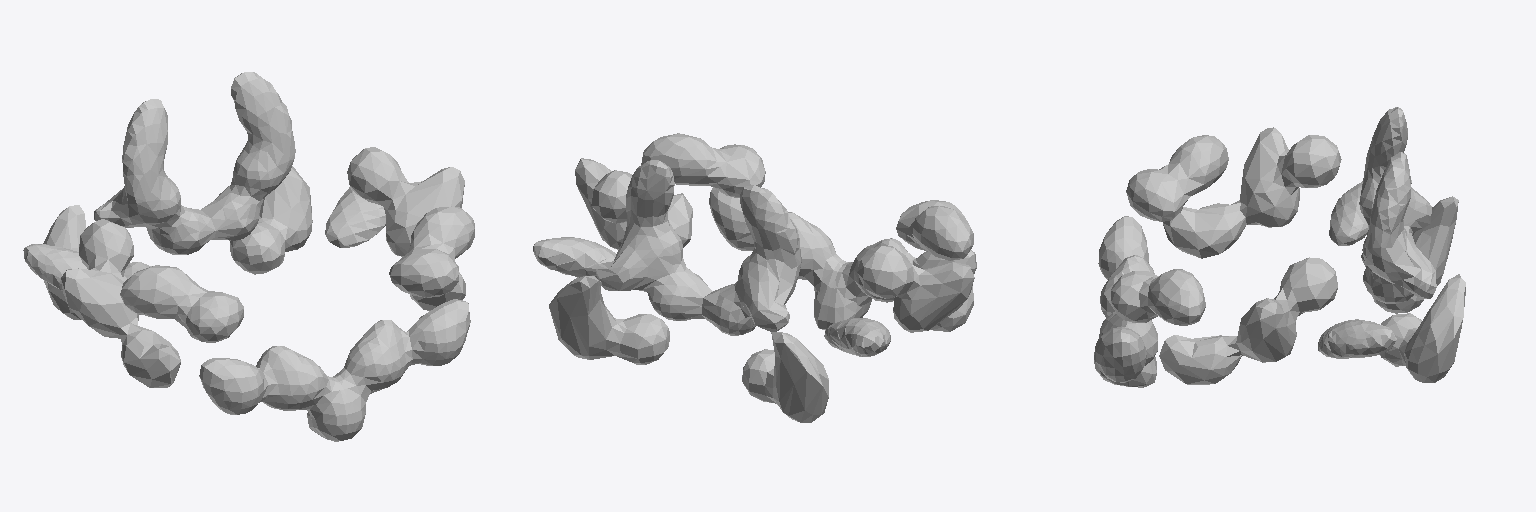
File: mocos-estructura.obj
3 renders of one model, left to right at view 1: azimuth 30°, elevation 25°; view 2: azimuth 150°, elevation 25°; view 3: azimuth 270°, elevation 25°, orthographic.
Visible parts, largest first — view 1: MetaBola.004, MetaBola.003, MetaBola.002, MetaBola.014, MetaBola.001, MetaBola.005; view 2: MetaBola.004, MetaBola.001, MetaBola.002, MetaBola.014, MetaBola.003, MetaBola.005; view 3: MetaBola.002, MetaBola.004, MetaBola.014, MetaBola.001, MetaBola.003, MetaBola.005.
Boxes of the visible parts, x1=… form: MetaBola.004: x1=94, y1=72, x2=295, y2=254; MetaBola.003: x1=199, y1=299, x2=470, y2=441; MetaBola.002: x1=61, y1=147, x2=465, y2=387; MetaBola.014: x1=120, y1=206, x2=474, y2=342; MetaBola.001: x1=43, y1=166, x2=312, y2=319; MetaBola.005: x1=23, y1=187, x2=385, y2=290; MetaBola.004: x1=596, y1=160, x2=801, y2=335; MetaBola.001: x1=549, y1=276, x2=828, y2=422; MetaBola.002: x1=575, y1=158, x2=974, y2=332; MetaBola.014: x1=641, y1=133, x2=973, y2=260; MetaBola.003: x1=709, y1=187, x2=976, y2=330; MetaBola.005: x1=533, y1=237, x2=890, y2=356; MetaBola.002: x1=1159, y1=127, x2=1341, y2=384; MetaBola.004: x1=1359, y1=107, x2=1436, y2=303; MetaBola.014: x1=1111, y1=135, x2=1228, y2=325; MetaBola.001: x1=1373, y1=196, x2=1465, y2=382; MetaBola.003: x1=1094, y1=216, x2=1157, y2=387; MetaBola.005: x1=1318, y1=180, x2=1411, y2=358.
Size of the model in its own units: 250 by 154 by 203.